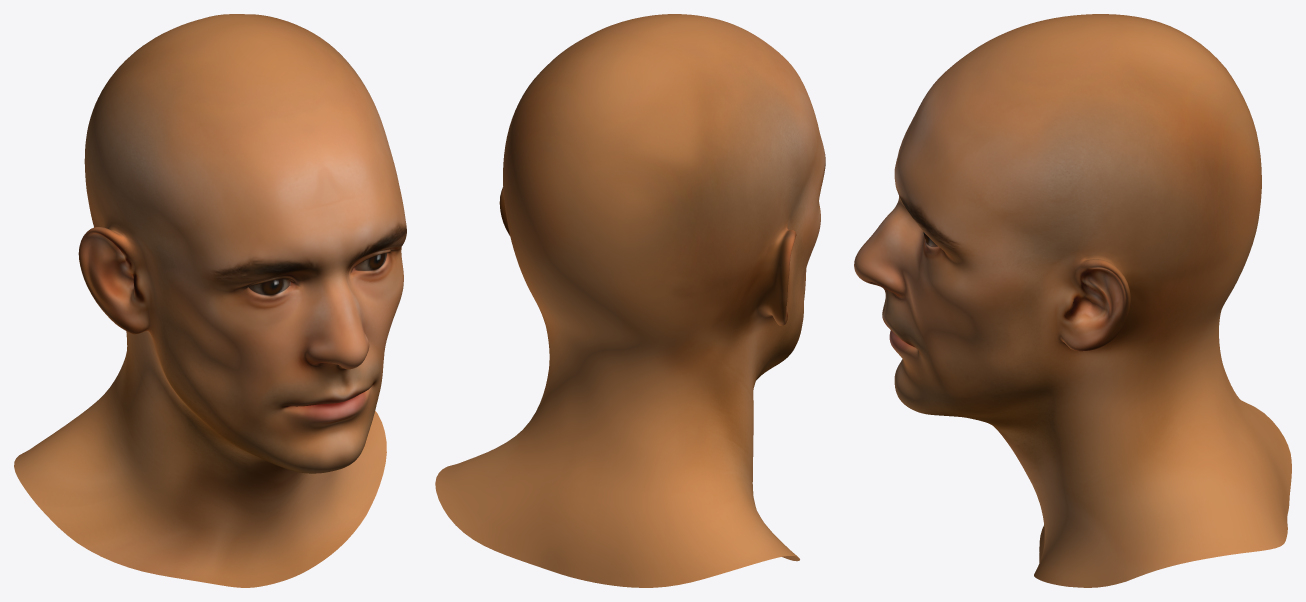
3 views of the same model, side by side, from view 1: azimuth 30°, elevation 25°; view 2: azimuth 150°, elevation 25°; view 3: azimuth 270°, elevation 25° (orthographic).
Visible parts, largest first — view 1: FBHead; view 2: FBHead; view 3: FBHead.
Part boxes in pixels (x1,y1,x2,y2): FBHead: (14,14,406,587); FBHead: (435,14,825,587); FBHead: (854,14,1291,587).
Bounding box in the file's own units: 1.83 × 2.72 × 2.01.
Materials: 1 (1 with a texture image).
